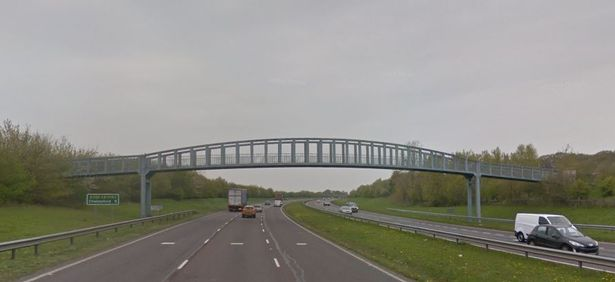bridge: (64, 137, 549, 182)
